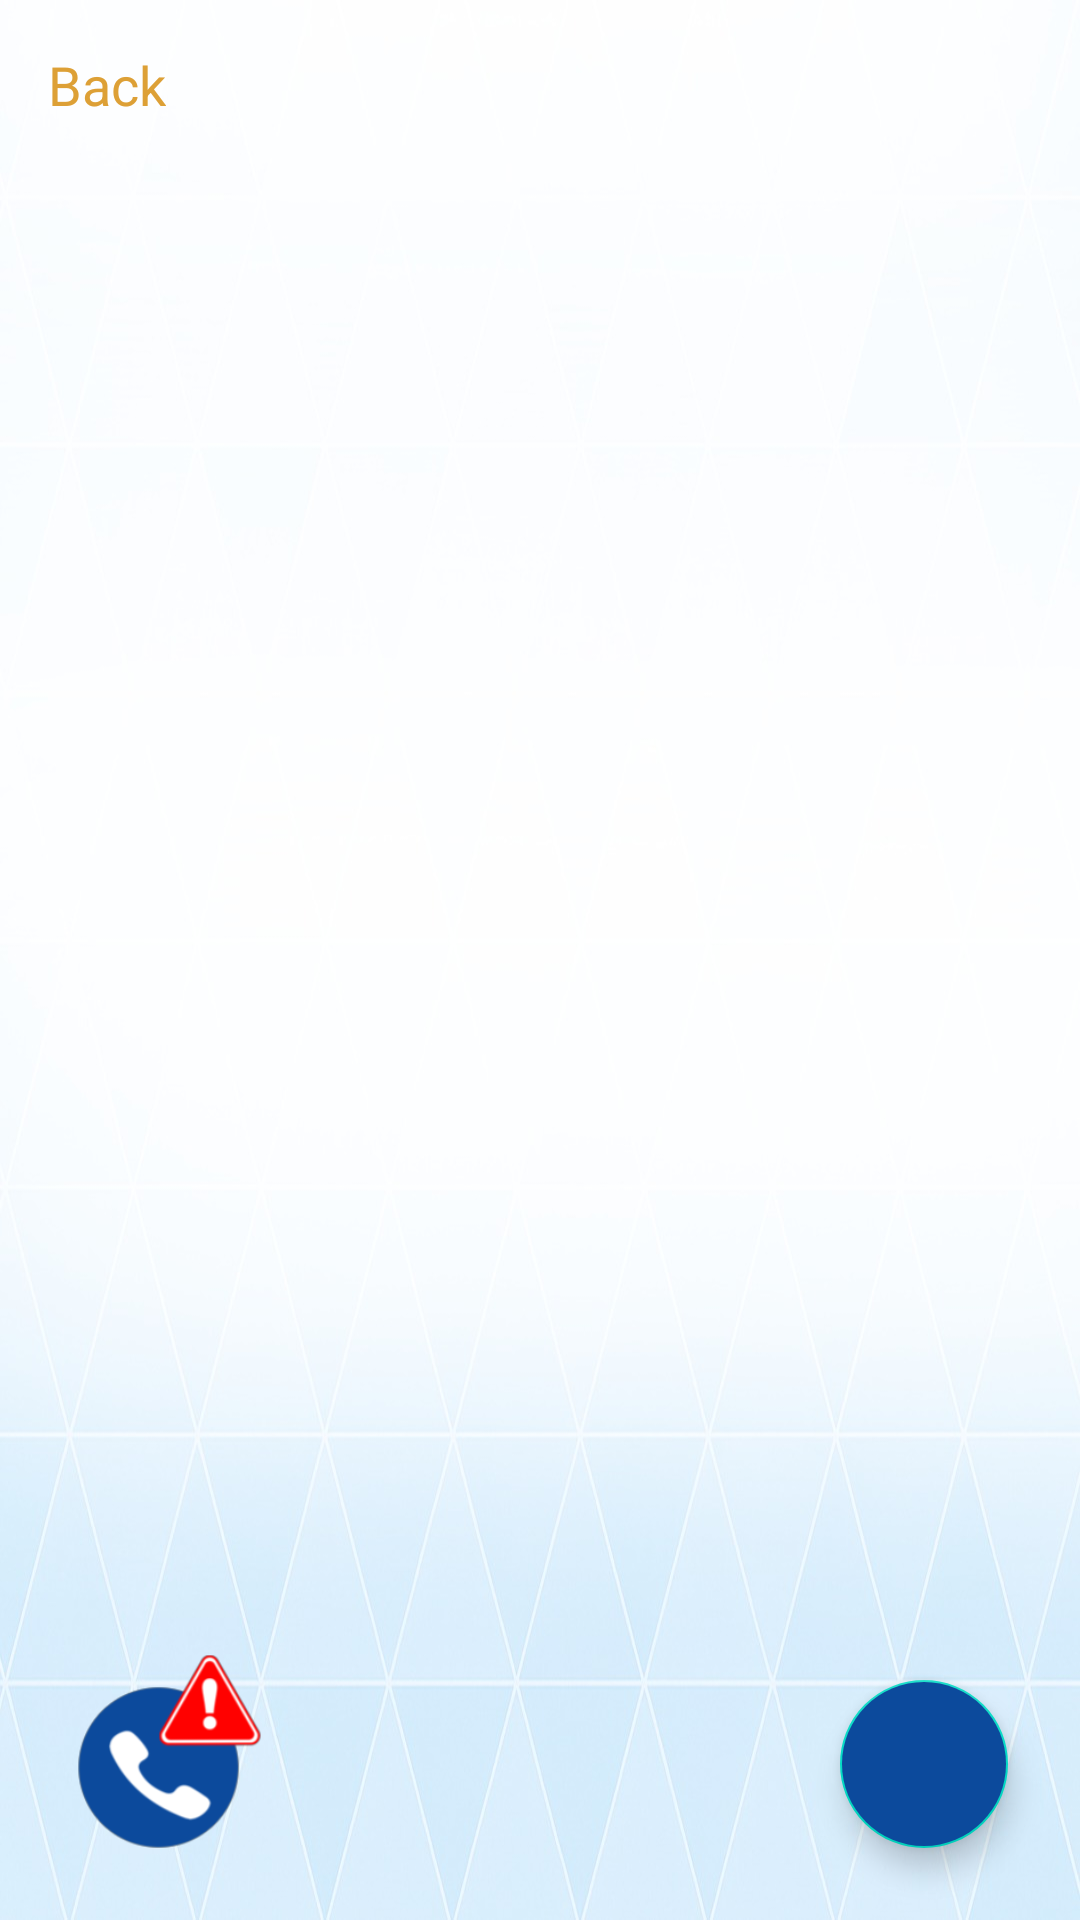

Icons on this 1080x1920 Android screen, each with its box as (x1, y1, x2, y2):
emergencybutton: (78, 1653, 267, 1848)
